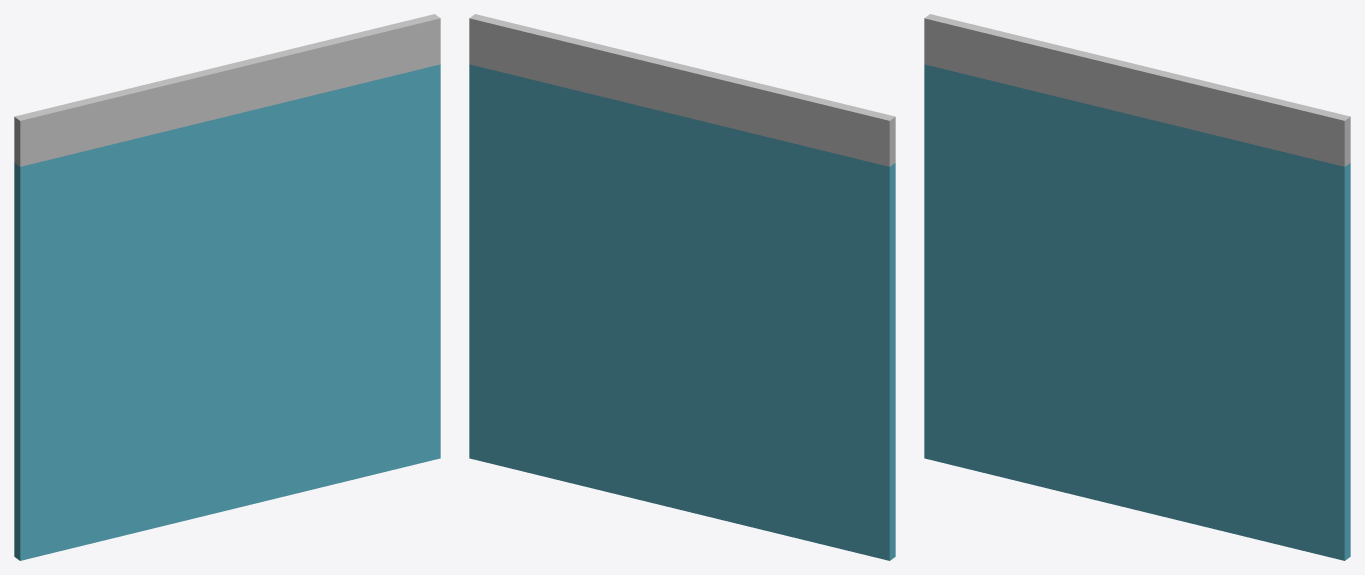
Rendered from ParedKidBedroom.fbx.
The picture shows the model from 3 angles, left to right: view 1: azimuth 30°, elevation 25°; view 2: azimuth 150°, elevation 25°; view 3: azimuth 330°, elevation 25°; orthographic projection.
Visible parts, largest first — view 1: Pared Habitacion Niño; view 2: Pared Habitacion Niño; view 3: Pared Habitacion Niño.
Boxes of the visible parts, left/top/right/bottom form: Pared Habitacion Niño: left=14, top=14, right=440, bottom=560; Pared Habitacion Niño: left=469, top=14, right=895, bottom=560; Pared Habitacion Niño: left=924, top=14, right=1350, bottom=560.
Bounding box in the file's own units: 400 × 400 × 9.7.
